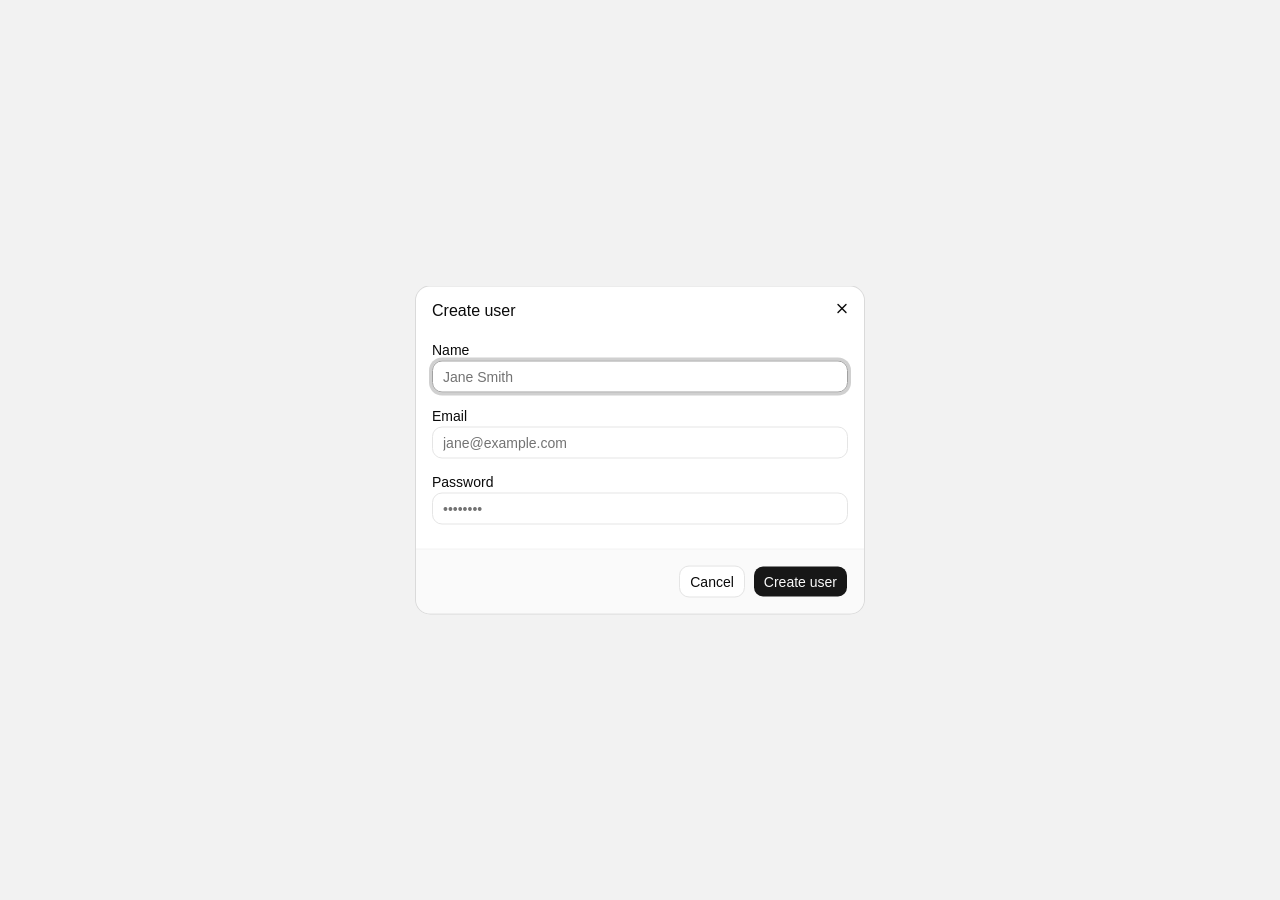
Test case: UserForm › validation › shows all field errors when submitting an empty form
The image size is (1280, 900).
Click the button "Create user" at {"x": 800, "y": 582}, box 753,566 -> 848,598
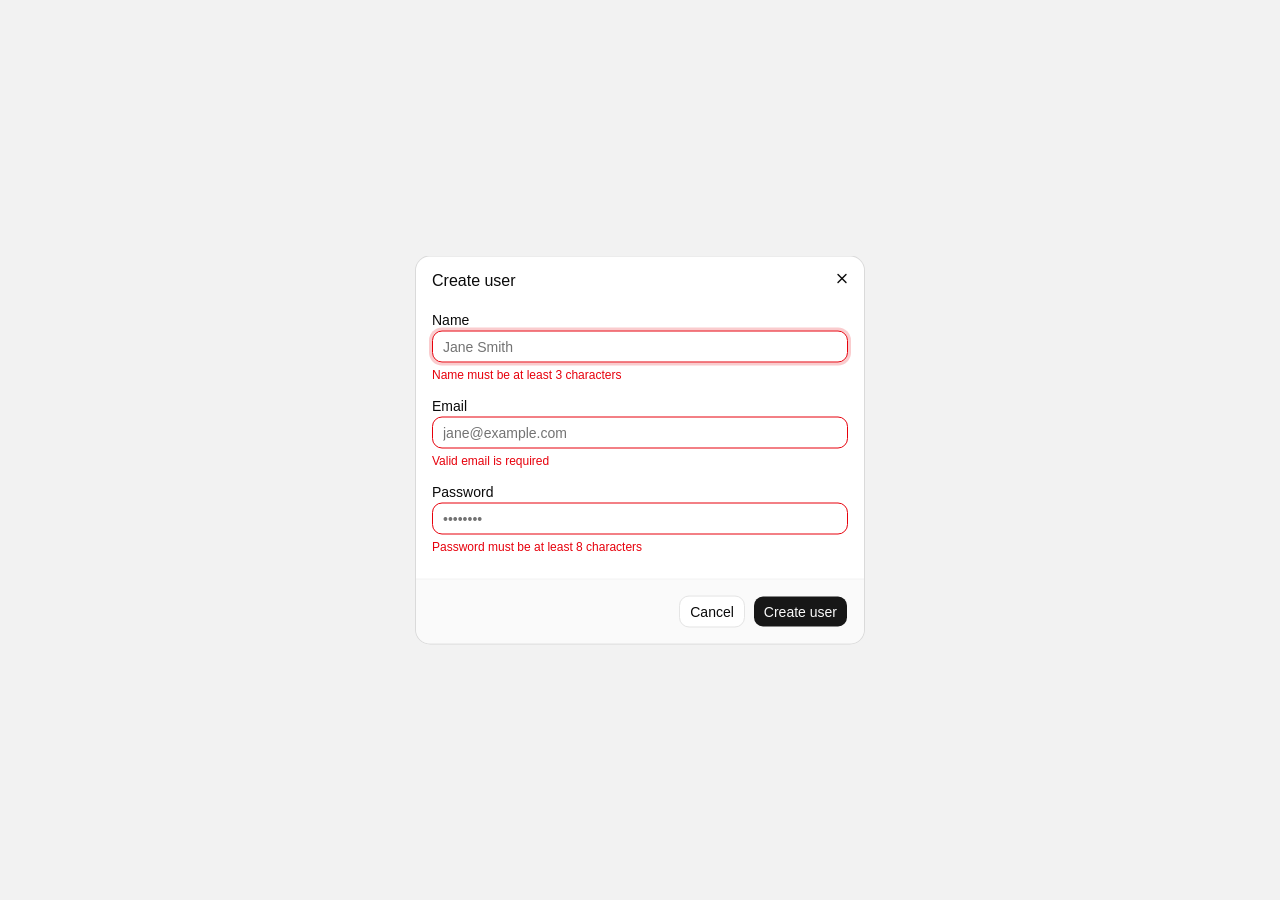
Expected: the text "Name must be at least 3 characters" is shown, 432,368 -> 621,382
Expected: the text "Valid email is required" is shown, 432,454 -> 549,468
Expected: the text "Password must be at least 8 characters" is shown, 432,540 -> 642,554
